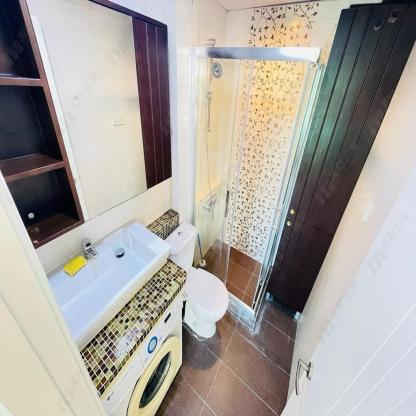Faucet: (78, 236, 99, 263)
Toilet: (164, 220, 229, 339)
Toilet Sink: (47, 220, 172, 352)
Water Cubicle: (193, 45, 327, 332)
